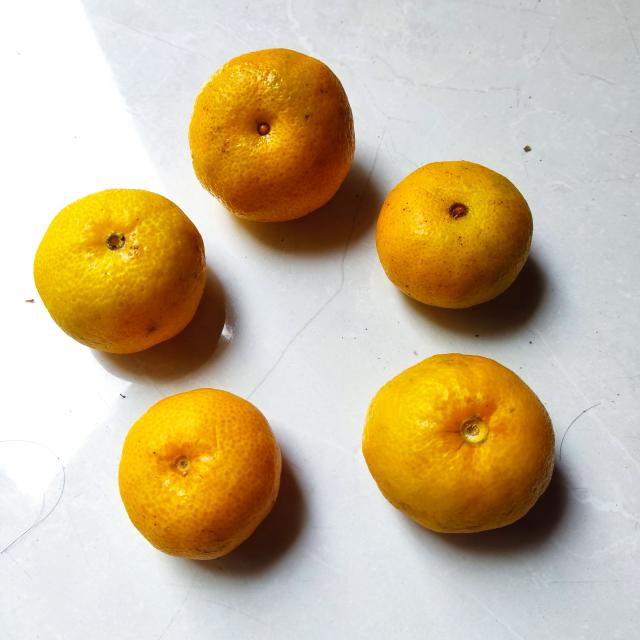orange: (362, 349, 555, 539), (31, 185, 209, 356), (187, 48, 355, 223), (118, 388, 283, 564), (374, 158, 533, 311)
